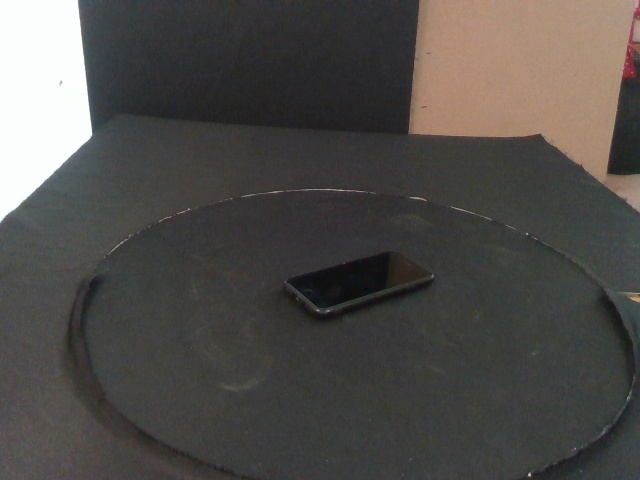phone: (282, 249, 435, 319)
